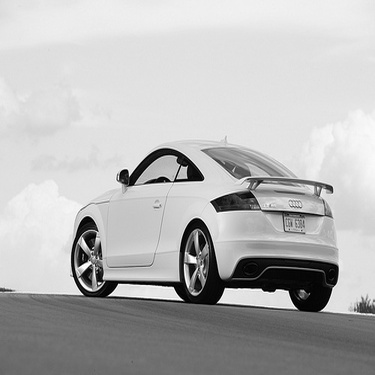car: (60, 126, 344, 313)
